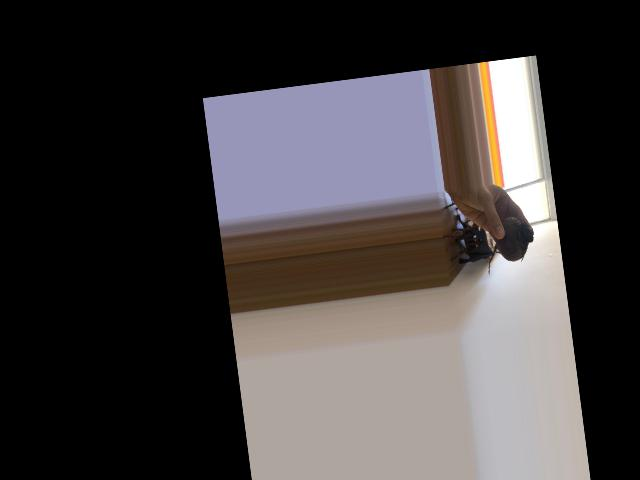beet: (481, 214, 538, 277)
